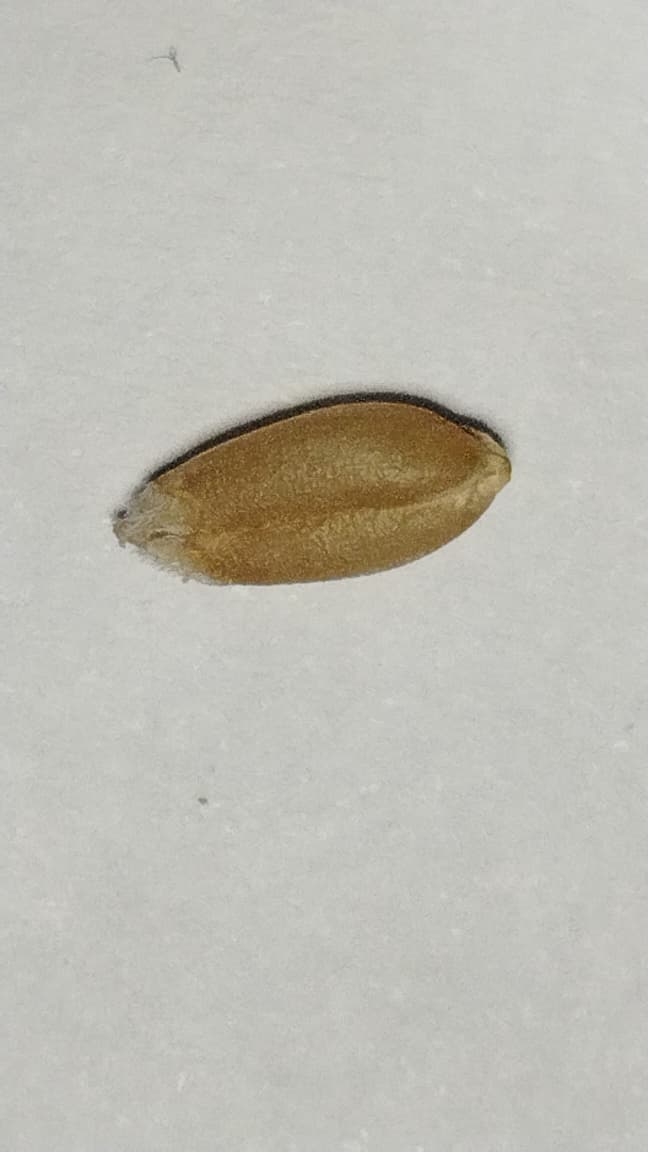healthy: (114, 388, 509, 584)
